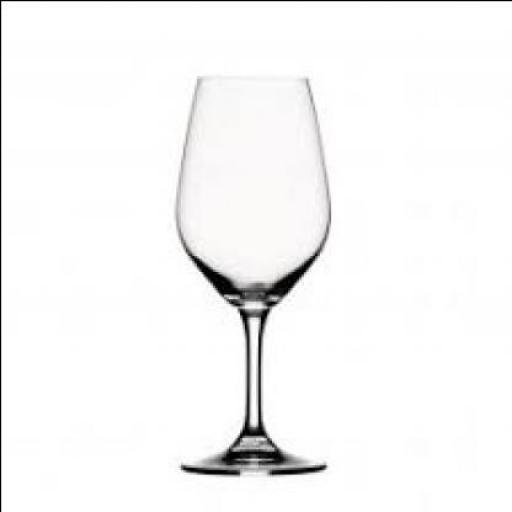glass: (178, 73, 332, 469)
